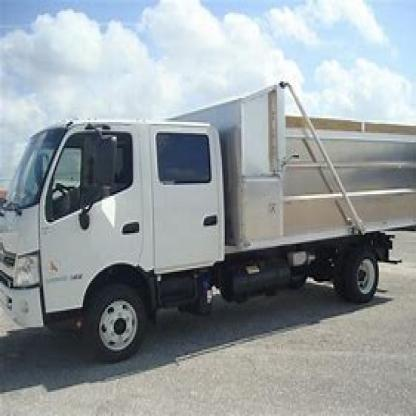dump_truck: (6, 67, 414, 358)
